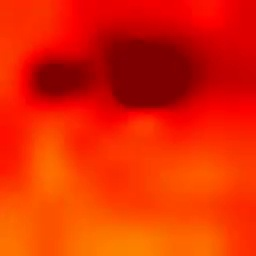person: (39, 41, 192, 113)
